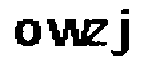j: (111, 6, 138, 60)
o: (10, 17, 44, 48)
w: (46, 17, 90, 50)
z: (89, 15, 111, 50)
